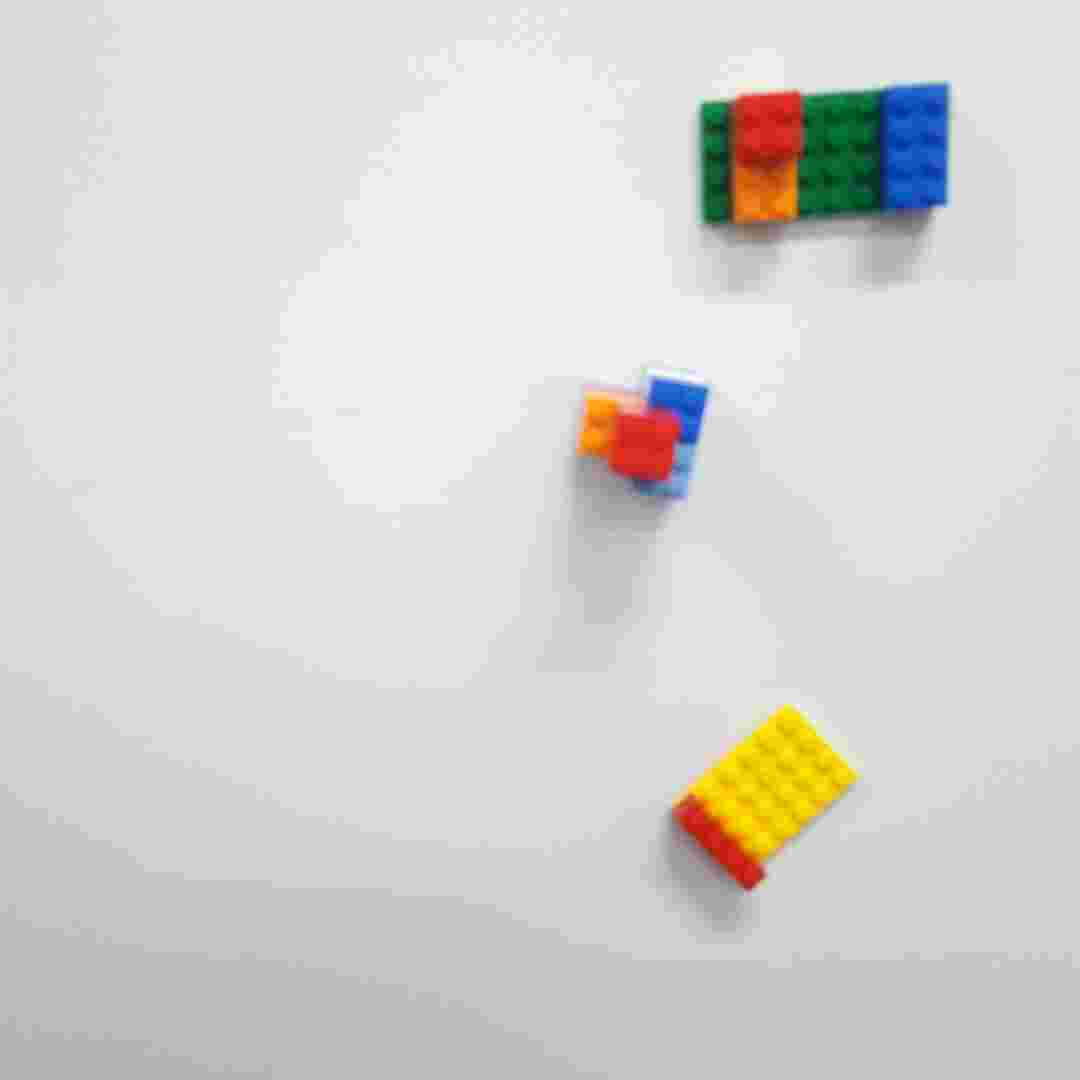LEGO: (690, 75, 955, 232), (663, 702, 863, 893), (574, 368, 712, 501)
